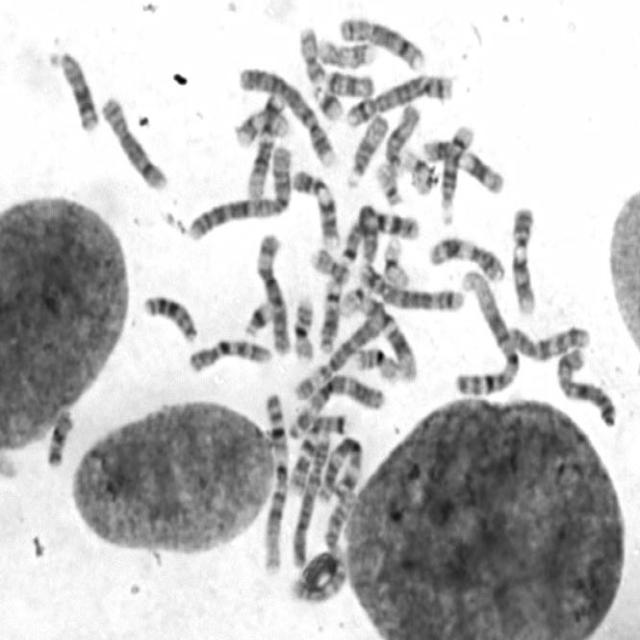A1: (451, 263, 524, 398), (257, 385, 291, 577)
A2: (184, 140, 296, 242), (287, 485, 355, 606)
A3: (286, 366, 388, 440), (312, 429, 366, 506)
B4: (233, 58, 340, 170), (290, 426, 331, 570)
B5: (345, 66, 457, 130), (353, 256, 464, 314)
C10: (503, 316, 594, 362), (184, 331, 274, 374)
C11: (419, 132, 506, 196), (424, 228, 507, 284)
C12: (355, 291, 420, 384), (241, 84, 286, 201)
C6: (289, 304, 387, 402), (251, 227, 292, 356)
C7: (284, 408, 348, 500), (338, 204, 421, 264)
C8: (98, 89, 172, 192), (334, 9, 428, 72)
C9: (287, 163, 340, 250), (507, 200, 540, 318)
D13: (41, 42, 101, 134), (138, 286, 198, 344)
D14: (436, 118, 476, 226), (314, 274, 342, 354)
D15: (342, 109, 390, 189), (380, 97, 423, 176)
E16: (352, 340, 402, 386), (288, 290, 316, 362)
E17: (229, 92, 289, 149), (313, 31, 378, 70)
E18: (42, 404, 76, 469), (322, 64, 377, 98)
F19: (397, 142, 439, 196), (377, 230, 412, 288)
F20: (295, 21, 327, 84), (308, 241, 351, 285)
G21: (241, 294, 277, 338), (309, 79, 344, 122)
G22: (371, 156, 405, 208), (338, 278, 371, 318)
X: (552, 342, 620, 429)
